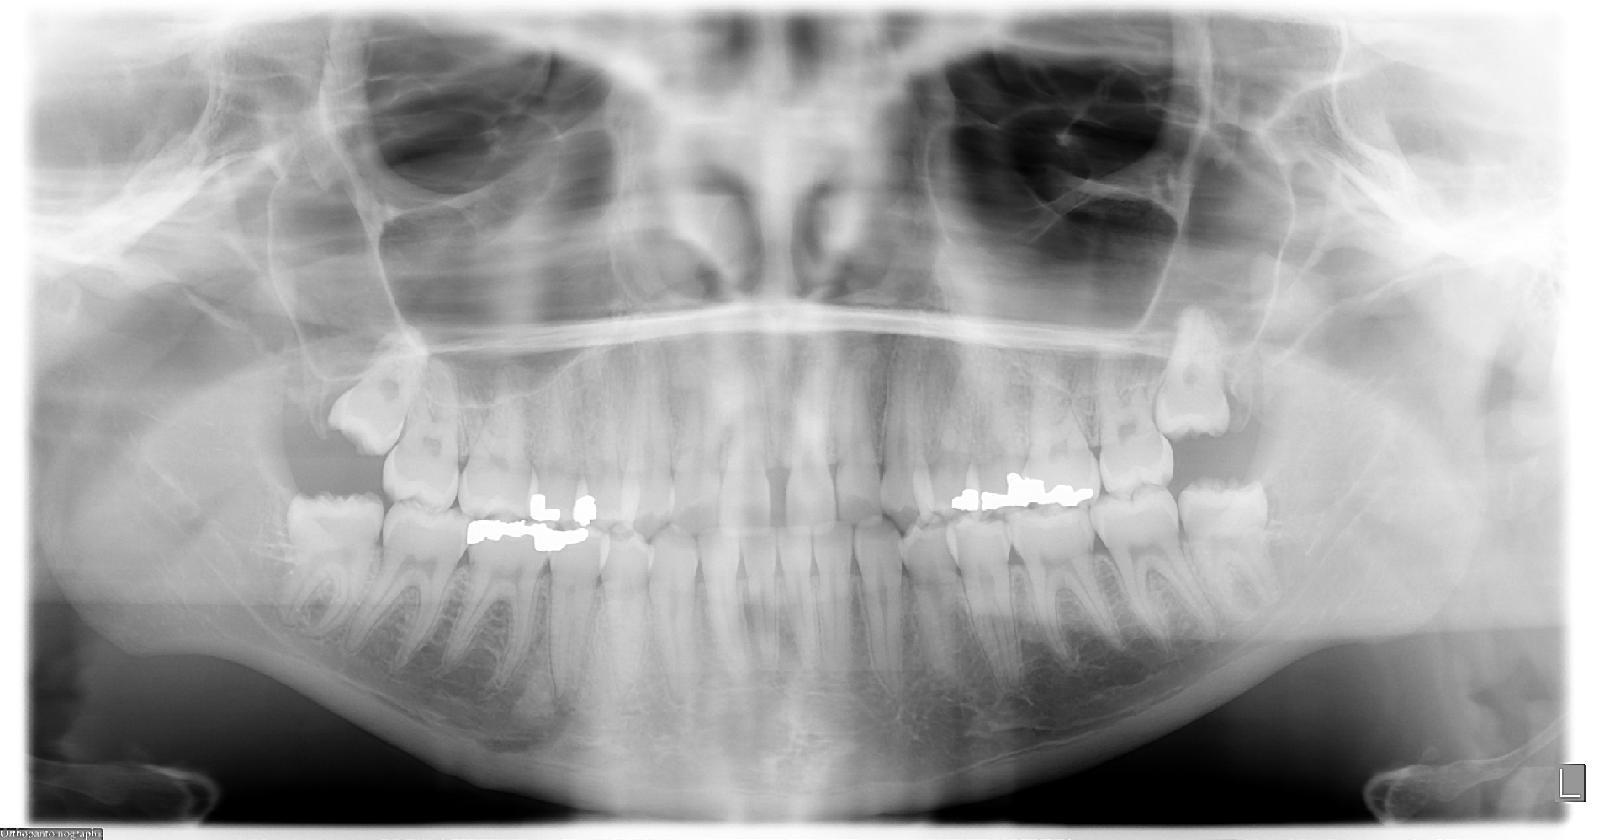Erupted: (269, 485, 388, 640), (1172, 475, 1292, 620)
